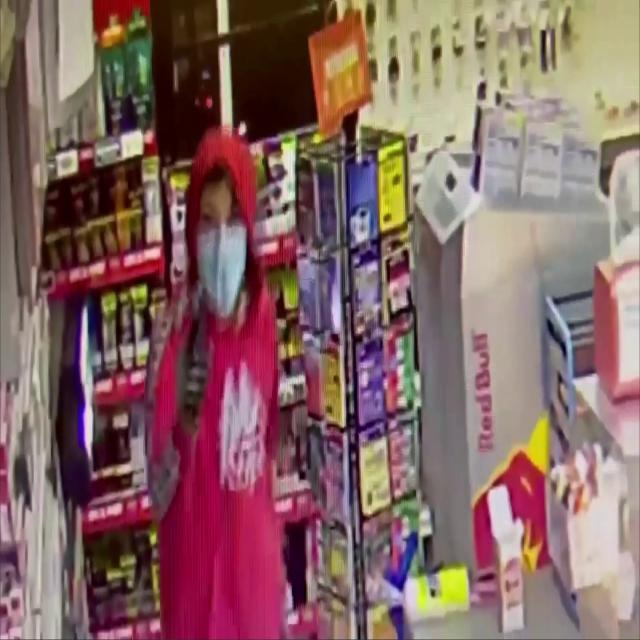Gun: (188, 312, 206, 410)
